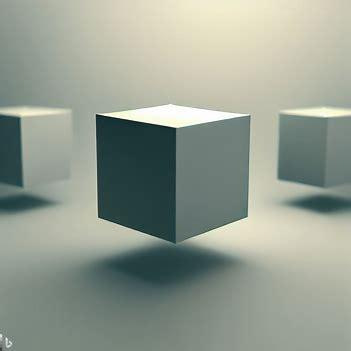cube: (96, 102, 249, 242)
